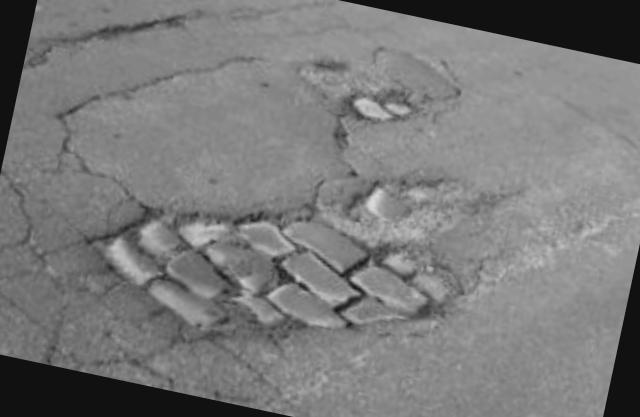Pothole: (68, 180, 485, 377), (306, 51, 448, 142)
